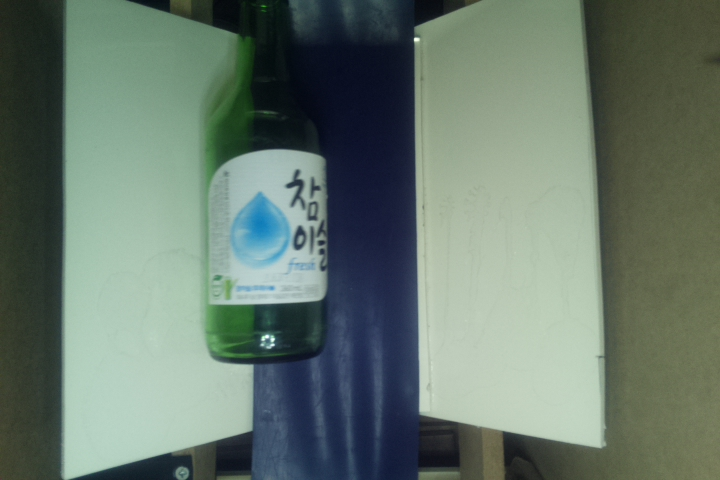soju: (198, 1, 329, 365)
